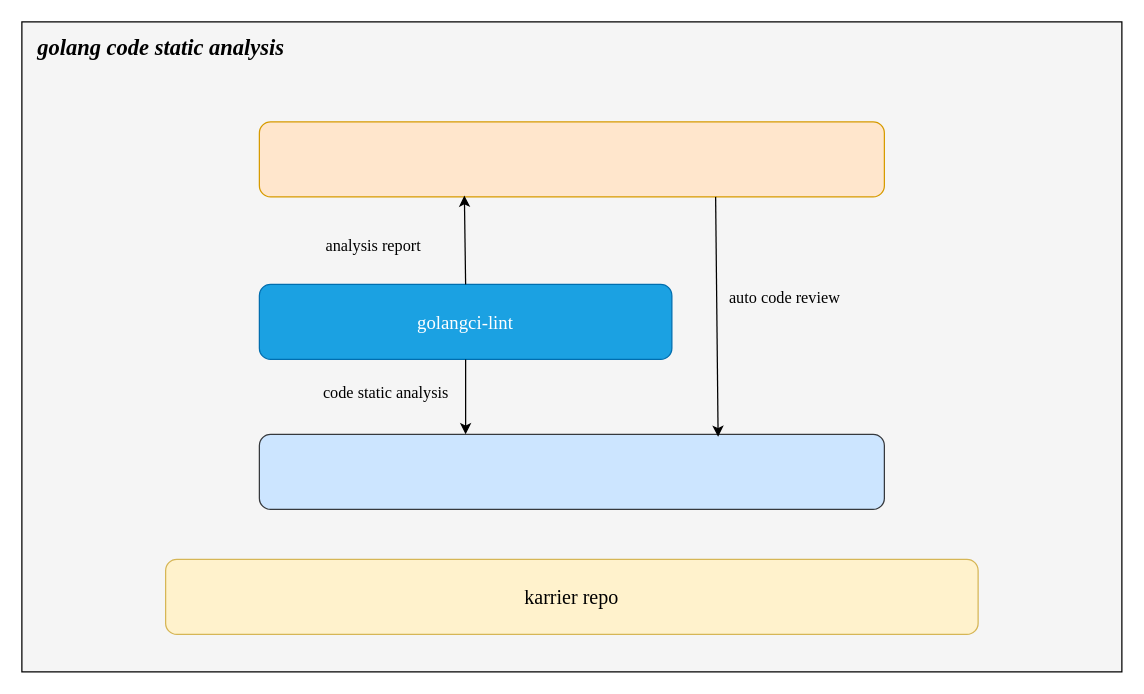
The diagram is 1144 pixels wide and 694 high, and some of its shapes have lost their labels. Each missing label, with the centre of its shape:
Merge Request: (x=571, y=471)
Reviewdog: (x=571, y=159)
